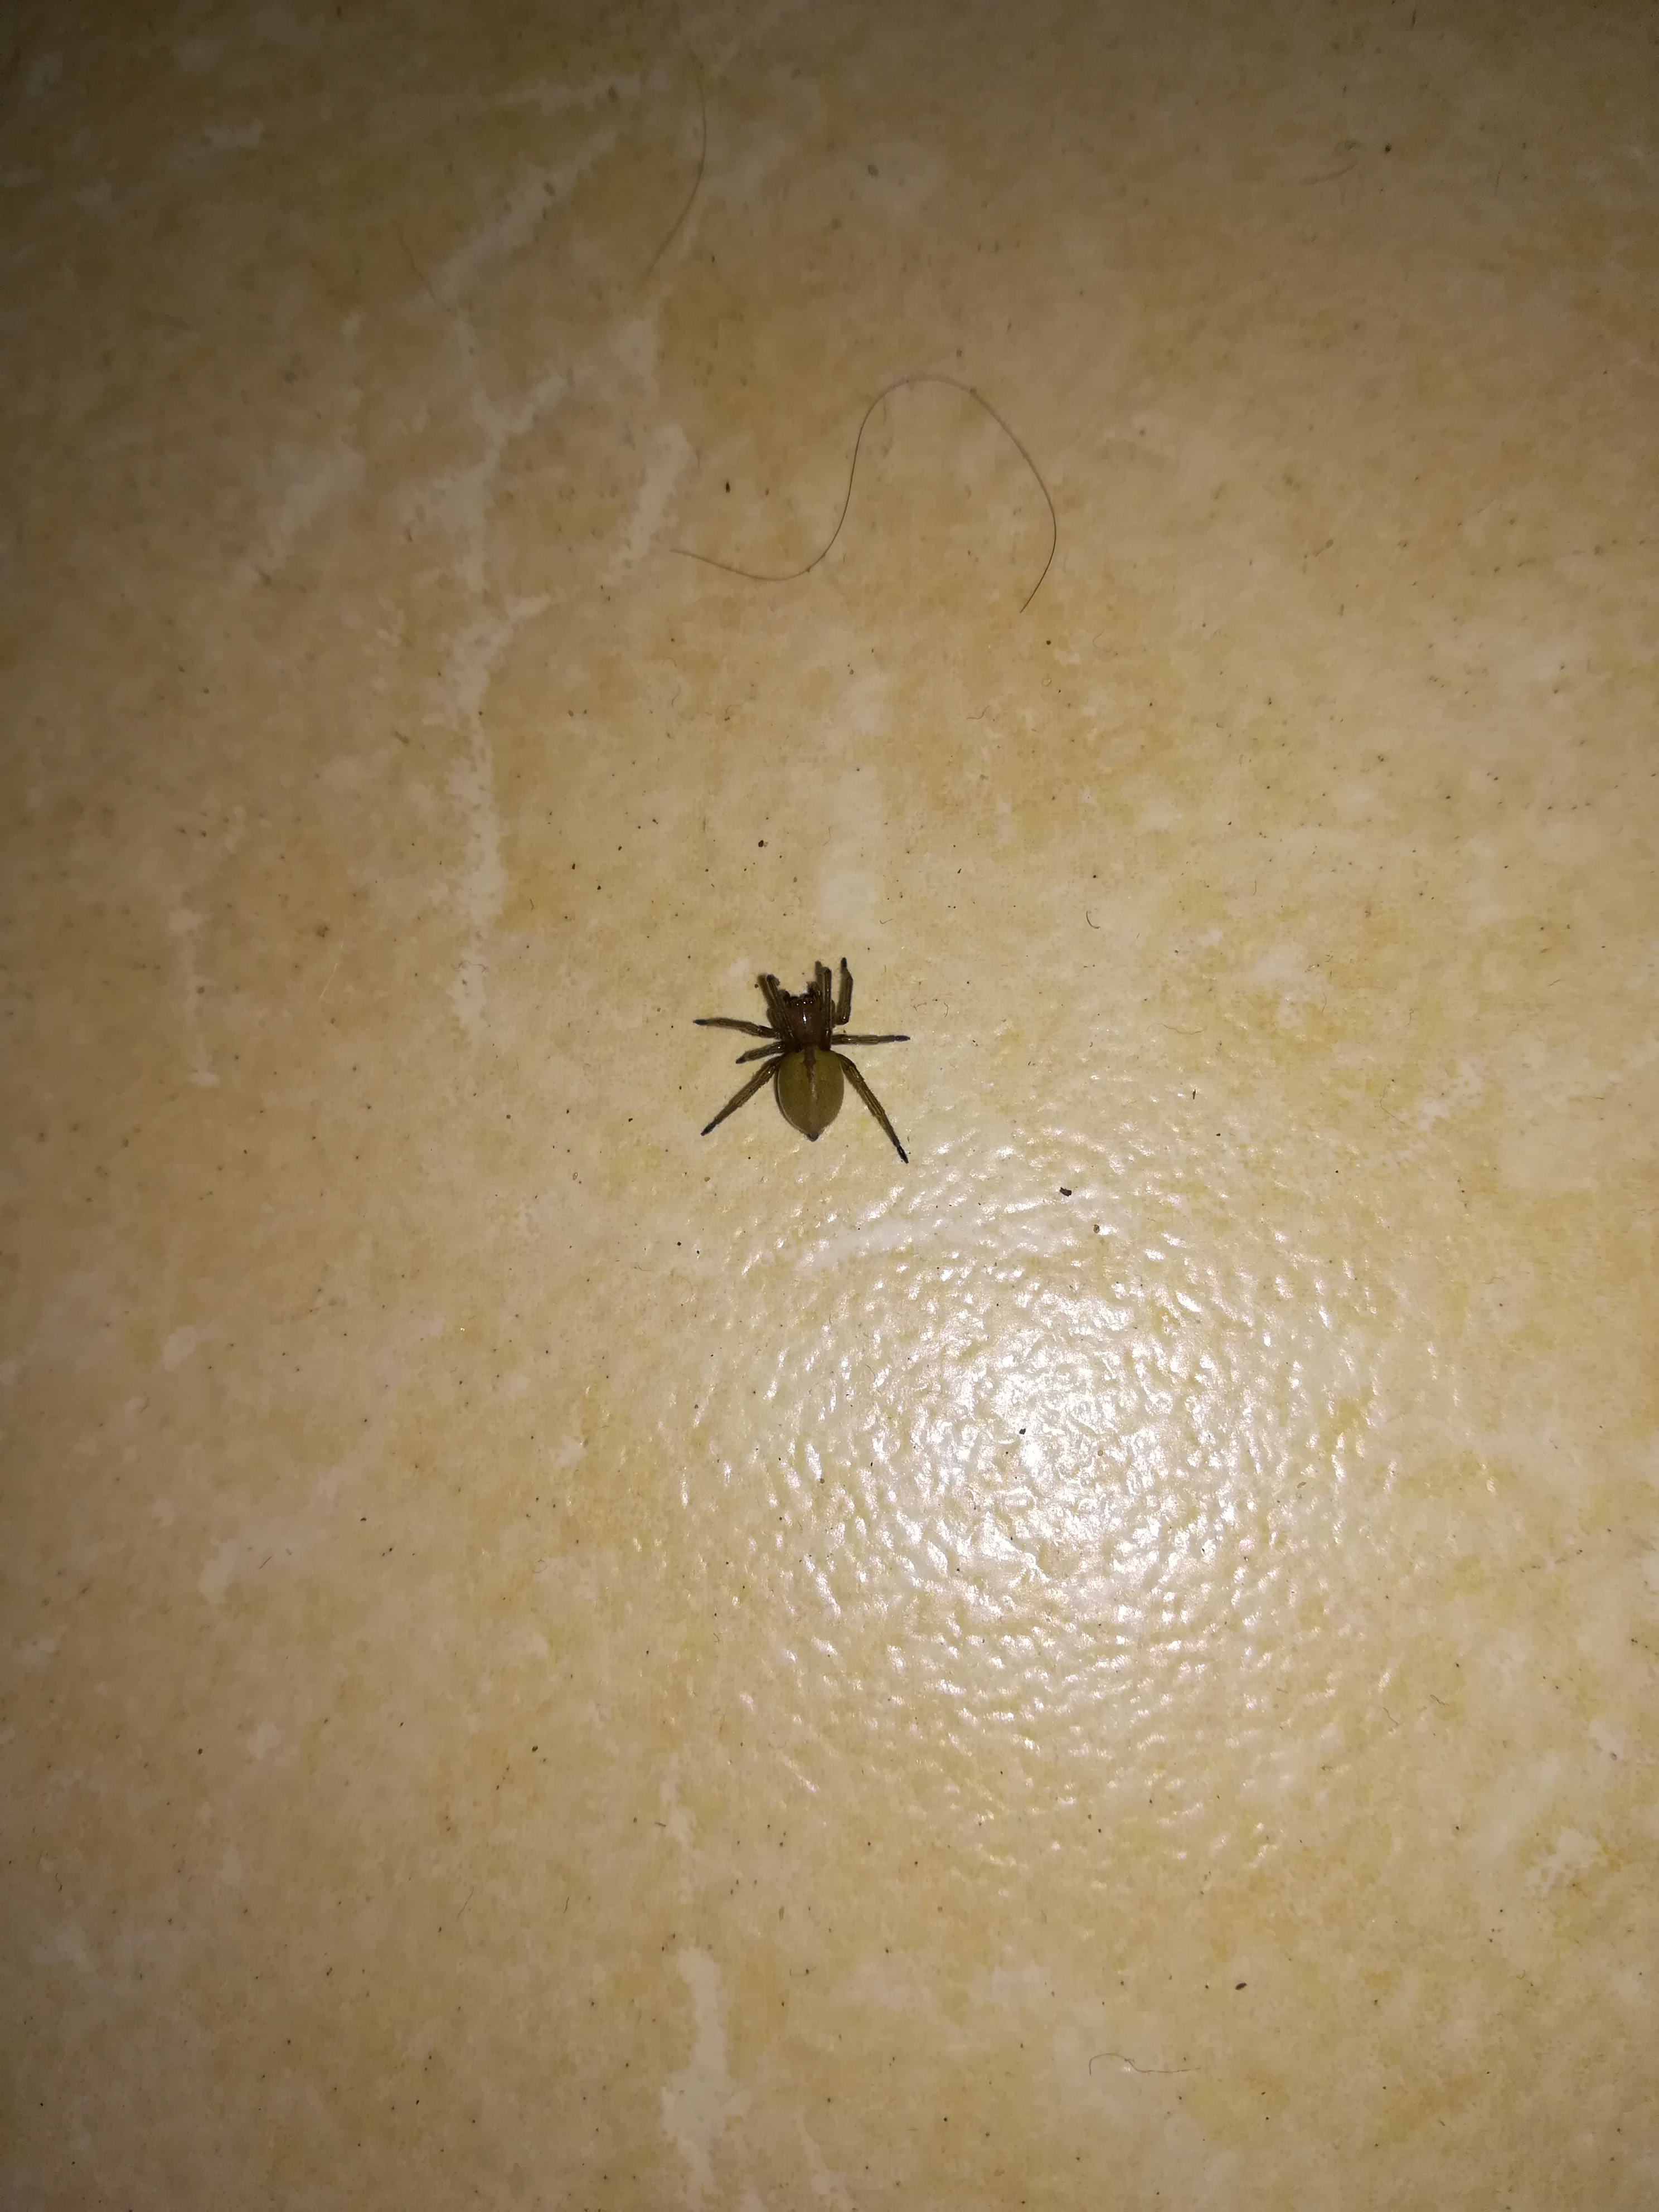spider: (664, 942, 939, 1214)
